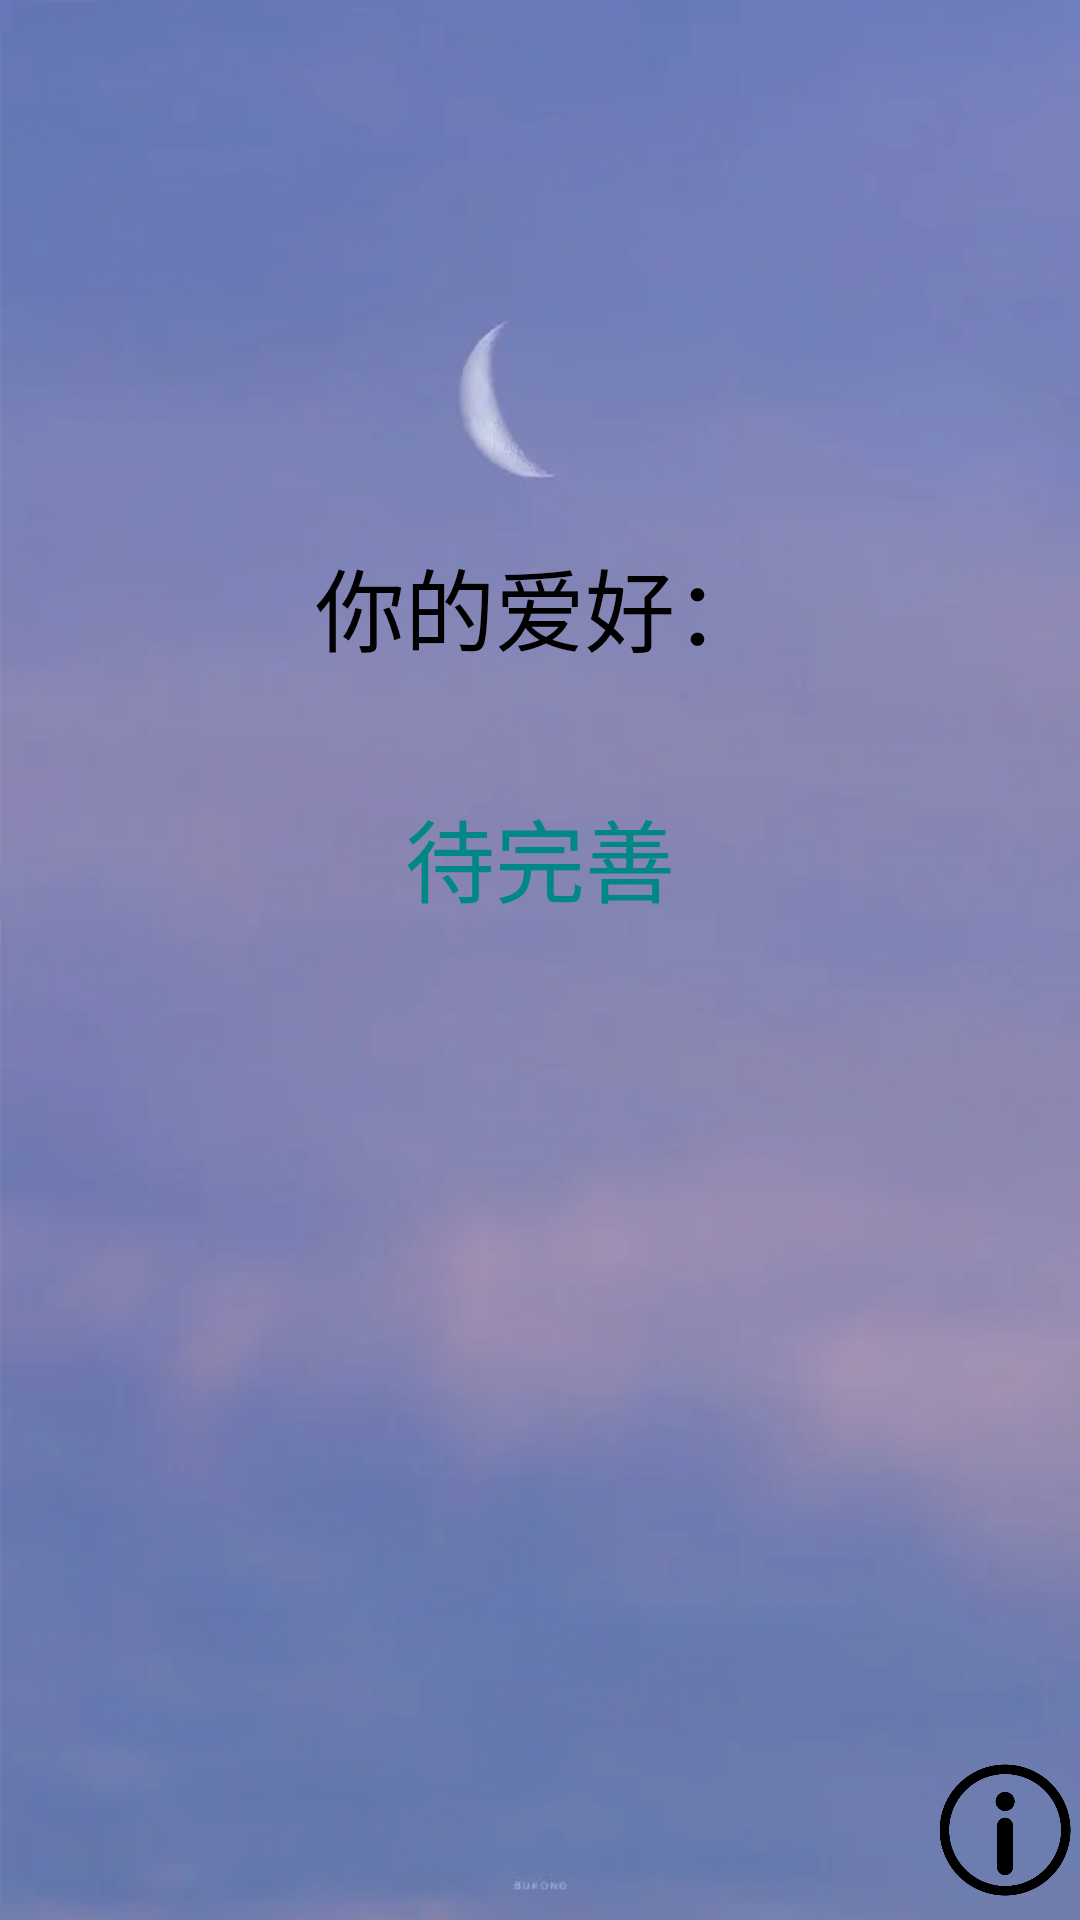

Screen size 1080x1920. Icon name, then its box in pixels as (x1, y1, x2, y2):
inform: (940, 1764, 1071, 1896)
